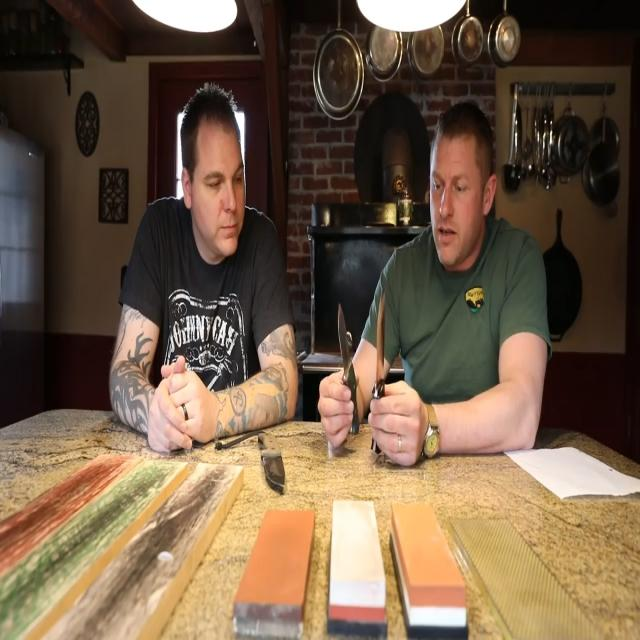knife: (337, 304, 361, 439), (375, 292, 390, 466), (258, 427, 288, 493)
